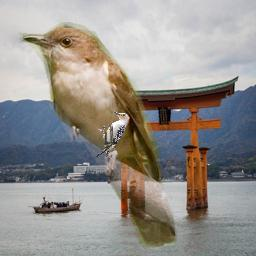Cuckoo: (19, 22, 178, 250)
Woodpecker: (94, 110, 130, 159)
